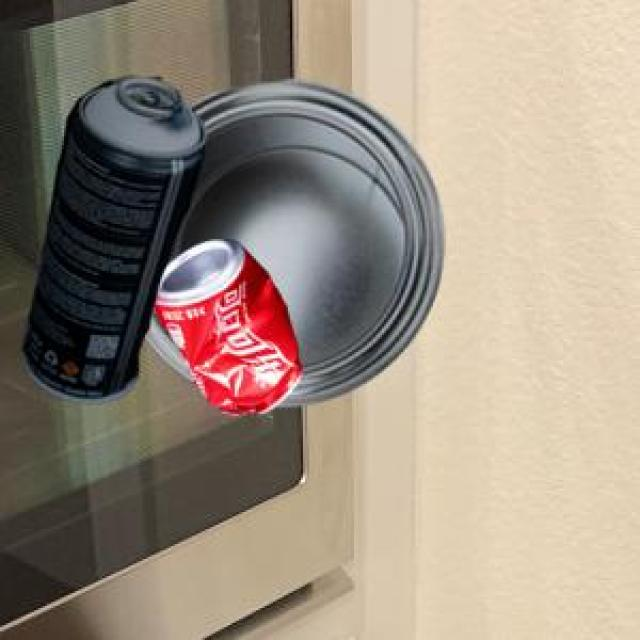logam: (142, 76, 441, 402), (20, 74, 202, 400), (150, 236, 300, 413)
